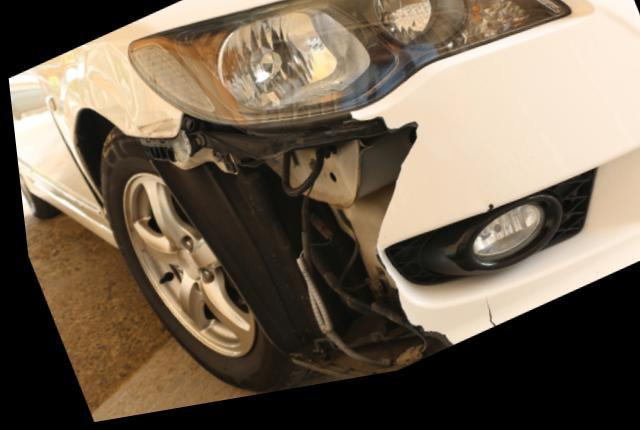crack: (477, 307, 487, 343)
dent: (83, 46, 135, 126)
no part: (133, 123, 437, 369)
